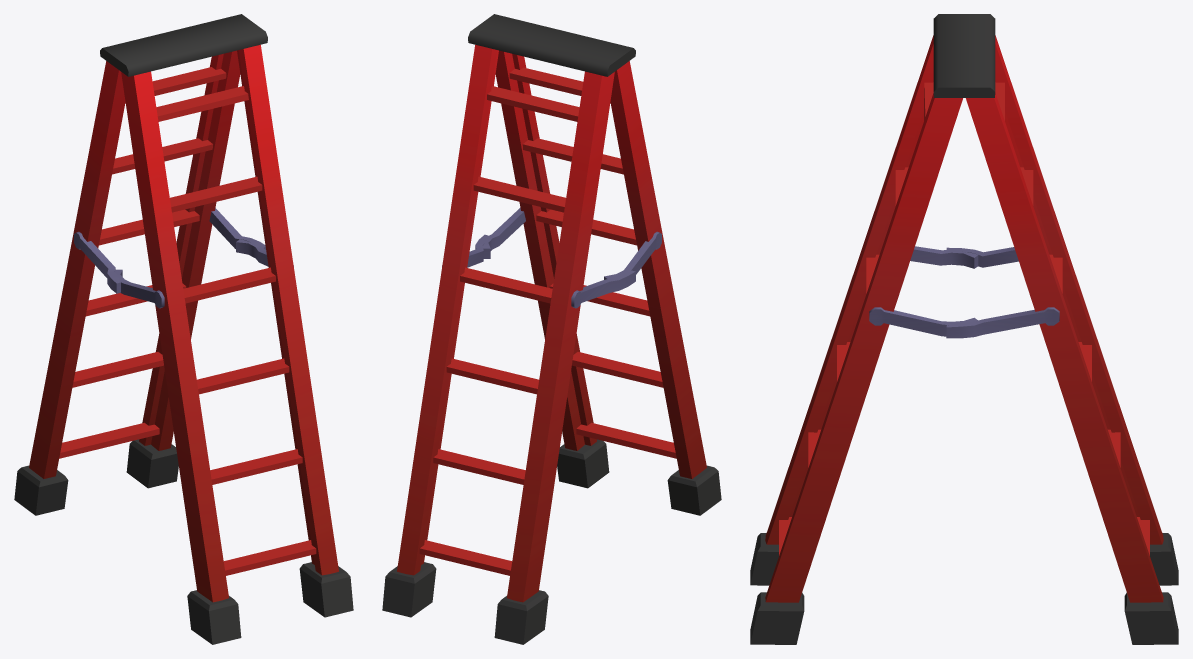
Rendered from Ladder_1_9.fbx.
The picture shows the model from 3 angles, left to right: view 1: azimuth 30°, elevation 25°; view 2: azimuth 150°, elevation 25°; view 3: azimuth 270°, elevation 25°; orthographic projection. The views are drawn at different scales.
Parts seen in each view (by area): view 1: Ladder_1_9; view 2: Ladder_1_9; view 3: Ladder_1_9.
Part boxes in pixels (x1,y1,x2,y2): Ladder_1_9: (14,14,353,644); Ladder_1_9: (382,14,721,644); Ladder_1_9: (750,14,1178,644).
Bounding box in the file's own units: 55.92 × 182 × 127.
